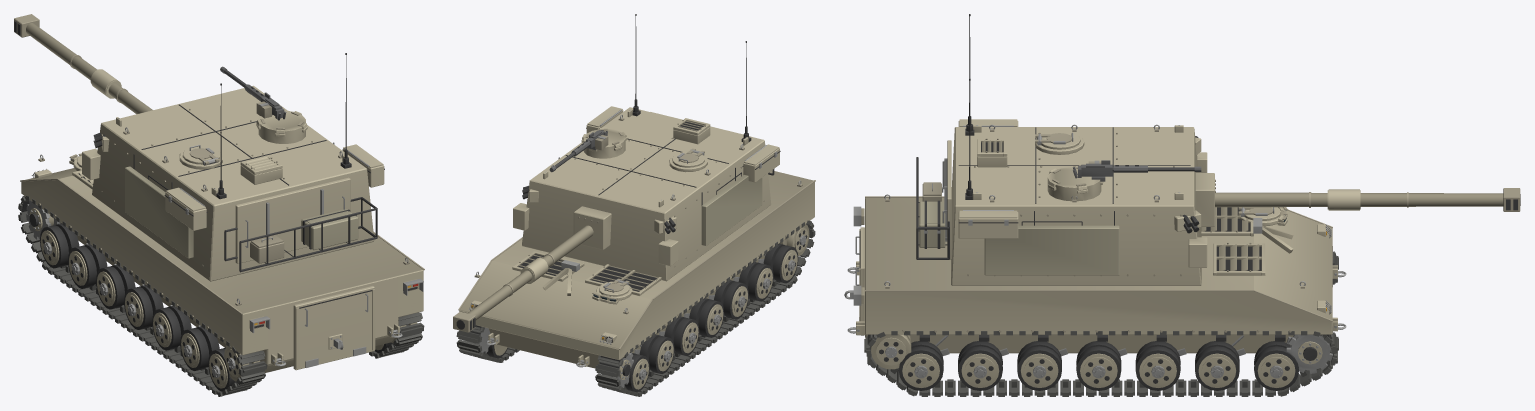
The model's file is usa_spg_a6.glb.
The picture shows the model from 3 angles, left to right: view 1: azimuth 30°, elevation 25°; view 2: azimuth 150°, elevation 25°; view 3: azimuth 270°, elevation 25°; orthographic projection. The views are drawn at different scales.
Visible parts, largest first — view 1: body, turret, barrel; view 2: body, turret, barrel; view 3: body, turret, barrel.
Boxes of the visible parts, <box> form: body: <box>18,153,424,396</box>; turret: <box>82,53,384,281</box>; barrel: <box>14,14,152,114</box>; body: <box>456,170,815,396</box>; turret: <box>513,14,780,281</box>; barrel: <box>453,206,611,332</box>; body: <box>844,194,1346,396</box>; turret: <box>916,14,1207,285</box>; barrel: <box>1195,173,1520,226</box>.
Size of the model in its own units: 3.15 by 4.47 by 9.04.
